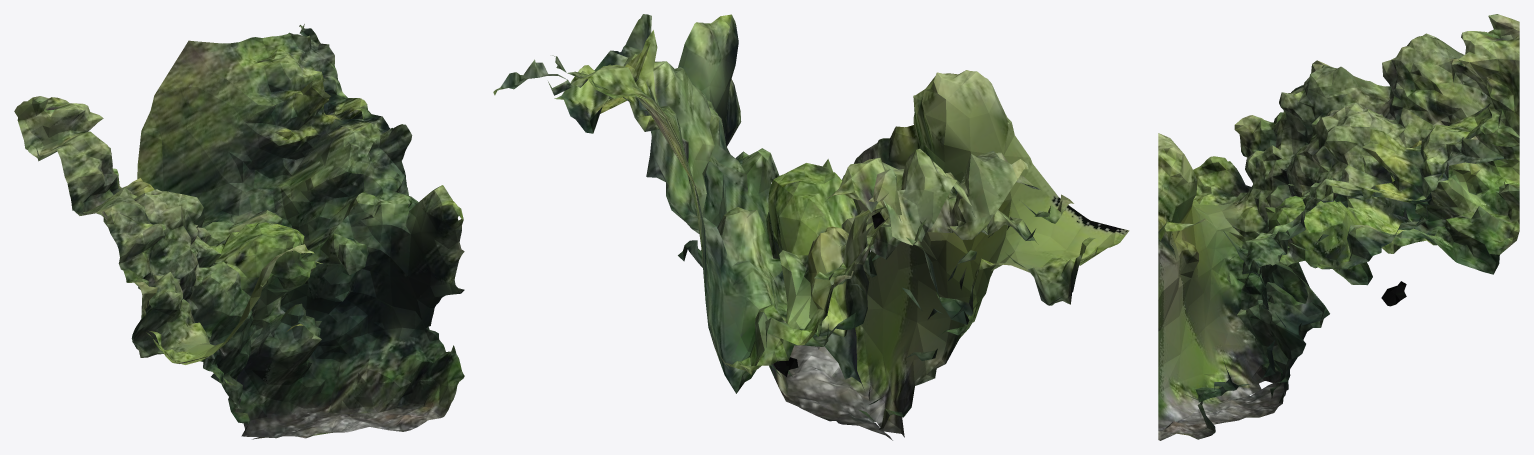
3 views of the same model, side by side, from view 1: azimuth 30°, elevation 25°; view 2: azimuth 150°, elevation 25°; view 3: azimuth 270°, elevation 25° (orthographic). The views are drawn at different scales.
Bounding box in the file's own units: 52.22 × 52.22 × 52.22.
6 materials, 6 textured.
